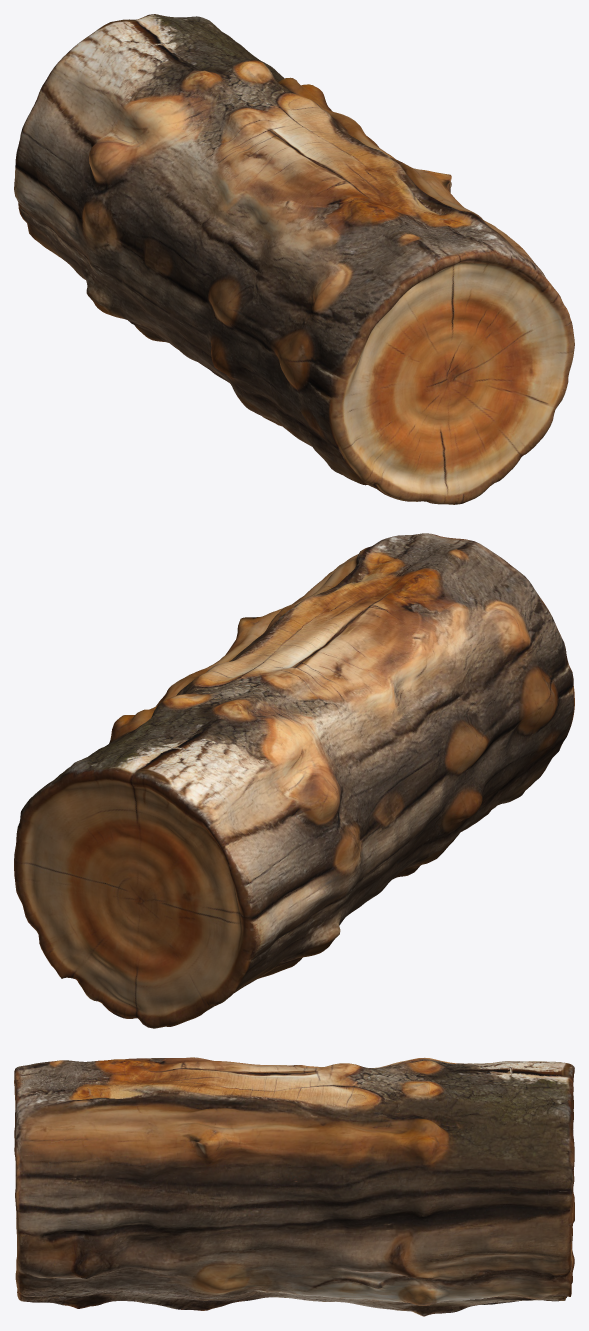
File: firewood_log_0425083922_refine.fbx
3 renders of one model, top to bottom at view 1: azimuth 30°, elevation 25°; view 2: azimuth 150°, elevation 25°; view 3: azimuth 270°, elevation 25°, orthographic. The views are drawn at different scales.
Visible parts, largest first — view 1: Mesh_0; view 2: Mesh_0; view 3: Mesh_0.
Boxes of the visible parts, <box> form: Mesh_0: <box>14,14,574,504</box>; Mesh_0: <box>14,533,574,1028</box>; Mesh_0: <box>14,1057,574,1316</box>.
Bounding box in the file's own units: 92.1 × 91.85 × 200.
1 material, 1 textured.
